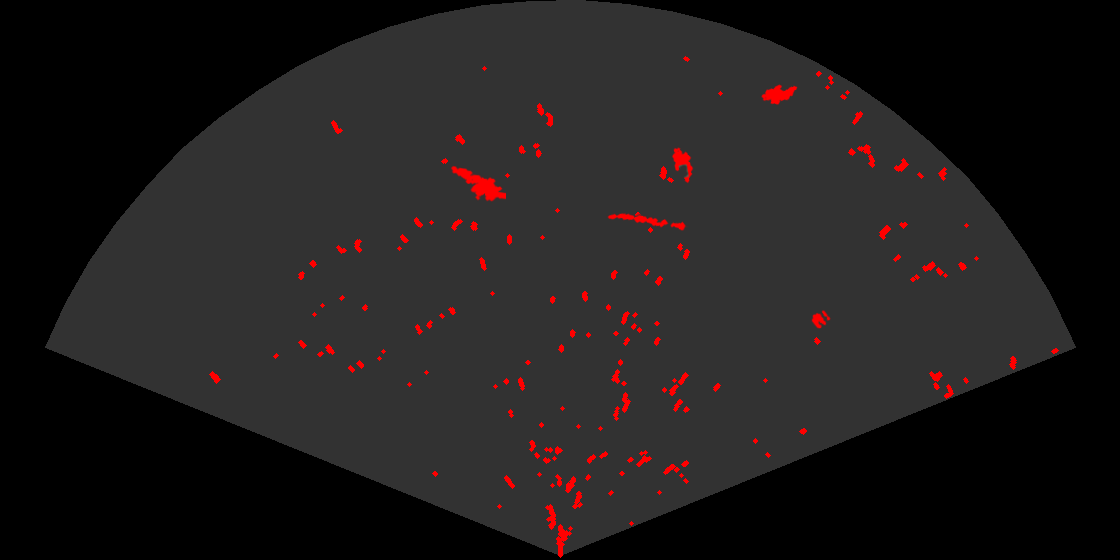AUV: (670, 146, 695, 185), (760, 83, 799, 107)
ball: (810, 309, 832, 330)
chain: (606, 211, 689, 232)
frogman: (449, 164, 506, 203)
